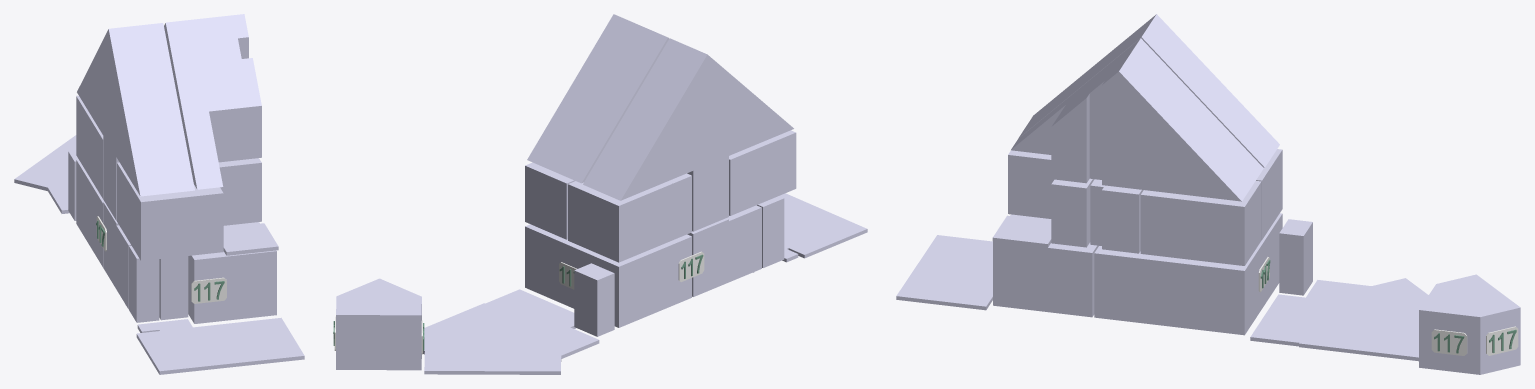
The picture shows the model from 3 angles, left to right: view 1: azimuth 30°, elevation 25°; view 2: azimuth 150°, elevation 25°; view 3: azimuth 270°, elevation 25°; orthographic projection. The views are drawn at different scales.
Parts seen in each view (by area): view 1: g_6, g_7, g_11, g_17, g_1, g_2, g_8, g_16, g_5, g_9, g_0, g_15 (+3 smaller); view 2: g_7, g_16, g_6, g_0, g_9, g_3, g_2, g_11, g_8, g_17, g_10, g_4 (+3 smaller); view 3: g_6, g_0, g_16, g_10, g_3, g_1, g_7, g_17, g_11, g_13, g_4, g_9 (+4 smaller).
Part boxes in pixels (x1=…): g_6: x1=164, y1=14, x2=261, y2=189; g_7: x1=77, y1=23, x2=194, y2=196; g_11: x1=117, y1=158, x2=261, y2=260; g_17: x1=136, y1=317, x2=304, y2=374; g_1: x1=188, y1=222, x2=276, y2=323; g_2: x1=103, y1=202, x2=188, y2=320; g_8: x1=103, y1=26, x2=139, y2=156; g_16: x1=14, y1=135, x2=76, y2=213; g_5: x1=129, y1=246, x2=159, y2=322; g_9: x1=76, y1=95, x2=103, y2=198; g_0: x1=76, y1=159, x2=104, y2=267; g_15: x1=223, y1=223, x2=278, y2=255; g_7: x1=583, y1=38, x2=793, y2=200; g_16: x1=423, y1=289, x2=599, y2=374; g_6: x1=527, y1=14, x2=669, y2=183; g_0: x1=525, y1=224, x2=691, y2=327; g_9: x1=568, y1=173, x2=691, y2=262; g_3: x1=336, y1=278, x2=421, y2=370; g_2: x1=687, y1=205, x2=761, y2=296; g_11: x1=729, y1=130, x2=796, y2=215; g_8: x1=675, y1=46, x2=728, y2=170; g_17: x1=779, y1=193, x2=867, y2=262; g_10: x1=525, y1=162, x2=574, y2=239; g_4: x1=574, y1=263, x2=614, y2=336; g_6: x1=1011, y1=38, x2=1263, y2=201; g_0: x1=1094, y1=213, x2=1282, y2=335; g_16: x1=1250, y1=278, x2=1428, y2=361; g_10: x1=1140, y1=181, x2=1261, y2=265; g_3: x1=1419, y1=274, x2=1520, y2=374; g_1: x1=993, y1=214, x2=1098, y2=317; g_7: x1=1018, y1=25, x2=1279, y2=167; g_17: x1=896, y1=235, x2=992, y2=310; g_11: x1=1008, y1=150, x2=1094, y2=247; g_13: x1=1090, y1=179, x2=1143, y2=253; g_4: x1=1279, y1=219, x2=1312, y2=295; g_9: x1=1256, y1=149, x2=1282, y2=239.
Size of the model in its own units: 12.15 by 10.25 by 22.91.
